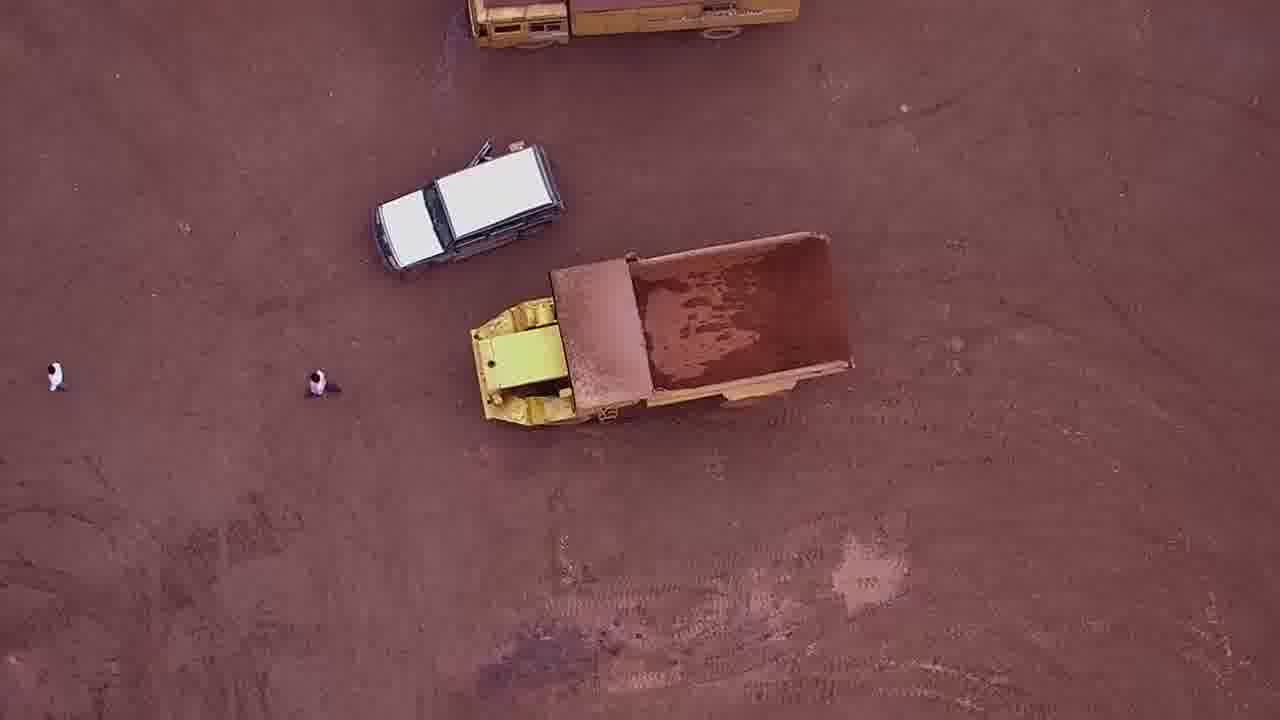HMV: (463, 225, 859, 450)
LMV: (370, 138, 562, 287)
Person: (299, 356, 345, 410), (40, 350, 74, 400)
